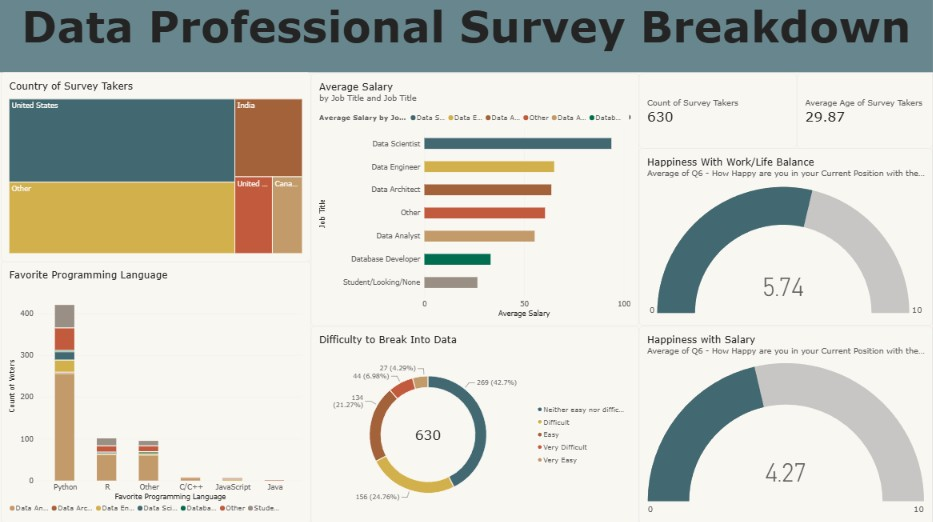

Layout of this report page (visuals, bound fields, positions):
{"tool":"powerbi","page":{"name":"Page 1","canvas":[1920,1080],"ordinal":0},"visuals":[{"type":"textbox","box":[0,0,1920,150],"z":0},{"type":"cardVisual","fields":{"Data":["Count(Data Professional Survey.Unique ID)"]},"box":[1315,152.5,325,155],"z":1},{"type":"cardVisual","fields":{"Data":["Avg(Data Professional Survey.Q10 - Current Age)"]},"box":[1640,152.5,280,155],"z":2},{"type":"barChart","fields":{"Category":["Data Professional Survey.Q1 - Which Title Best Fits your Current Role?.1"],"Series":["Data Professional Survey.Q1 - Which Title Best Fits your Current Role?.1"],"Y":["Avg(Data Professional Survey.Average Salary)"]},"box":[640,152.5,675,520],"z":3},{"type":"columnChart","title":"Favorite Programming Language","fields":{"Category":["Data Professional Survey.Q5 - Favorite Programming Language.1"],"Series":["Data Professional Survey.Q1 - Which Title Best Fits your Current Role?.1"],"Y":["CountNonNull(Data Professional Survey.Unique ID)"]},"box":[2.5,540,637.5,540],"z":4},{"type":"treemap","title":"Country of Survey Takers","fields":{"Group":["Data Professional Survey.Q11 - Which Country do you live in?.1"],"Values":["CountNonNull(Data Professional Survey.Q11 - Which Country do you live in?.1)"]},"box":[2.5,150,637.5,390],"z":5},{"type":"gauge","title":"Happiness With Work/Life Balance","fields":{"MaxValue":["Max(Data Professional Survey.Q6 - How Happy are you in your Current Position with the following? (Work/Life Balance))2"],"MinValue":["Min(Data Professional Survey.Q6 - How Happy are you in your Current Position with the following? (Work/Life Balance))1"],"Y":["Avg(Data Professional Survey.Q6 - How Happy are you in your Current Position with the following? (Work/Life Balance))"]},"box":[1315,307.5,605,365],"z":6},{"type":"gauge","title":"Happiness with Salary","fields":{"MaxValue":["Max(Data Professional Survey.Q6 - How Happy are you in your Current Position with the following? (Salary))2"],"MinValue":["Min(Data Professional Survey.Q6 - How Happy are you in your Current Position with the following? (Salary))1"],"Y":["Avg(Data Professional Survey.Q6 - How Happy are you in your Current Position with the following? (Salary))"]},"box":[1315,672.5,605,407.5],"z":7},{"type":"donutChart","title":"Difficulty to Break Into Data","fields":{"Category":["Data Professional Survey.Q7 - How difficult was it for you to break into Data?"],"Y":["CountNonNull(Data Professional Survey.Q7 - How difficult was it for you to break into Data?)"]},"box":[640,672.5,675,407.5],"z":8}]}

Visuals, with their boxes in screenshot pixels (x1, y1, x2, y2), scaled from the page's 1920x1080 canvas onto the 933x522 screenshot:
textbox: BBox(0, 0, 932, 72)
cardVisual - Count(Data Professional Survey.Unique ID): BBox(639, 74, 797, 149)
cardVisual - Avg(Data Professional Survey.Q10 - Current Age): BBox(797, 74, 932, 149)
barChart - Data Professional Survey.Q1 - Which Title Best Fits your Current Role?.1 x Data Professional Survey.Q1 - Which Title Best Fits your Current Role?.1: BBox(311, 74, 639, 325)
"Favorite Programming Language" columnChart: BBox(1, 261, 311, 521)
"Country of Survey Takers" treemap: BBox(1, 72, 311, 261)
"Happiness With Work/Life Balance" gauge: BBox(639, 149, 932, 325)
"Happiness with Salary" gauge: BBox(639, 325, 932, 521)
"Difficulty to Break Into Data" donutChart: BBox(311, 325, 639, 521)
